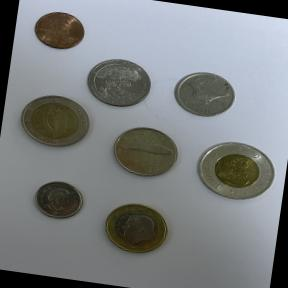1 Euro-B: (94, 194, 176, 262)
2 Euro-B: (9, 86, 98, 154)
Canada-10cent-B: (26, 172, 90, 228)
Canada-2Dollar-B: (188, 130, 284, 209)
Croatia-2Kune-B: (102, 119, 184, 184)
US-1cent-B: (27, 4, 89, 56)
US-25cent-B: (80, 48, 161, 114)
